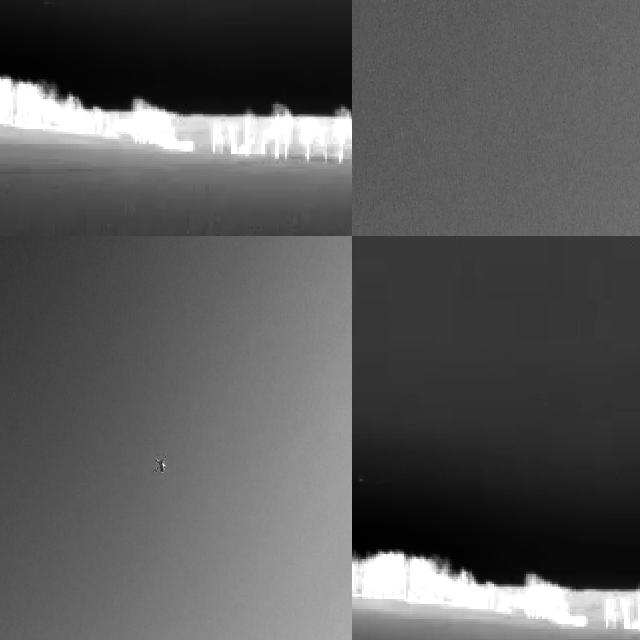0: (352, 466, 377, 499), (31, 0, 61, 21)
drone: (152, 445, 171, 479)
